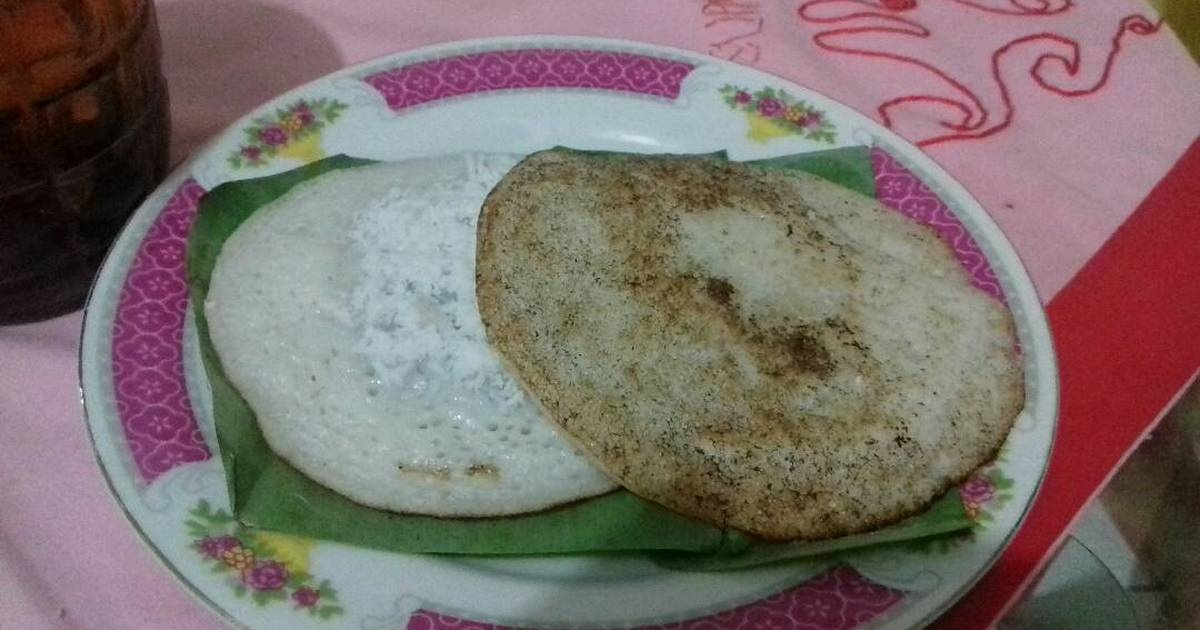srabi: (473, 130, 1058, 529)
